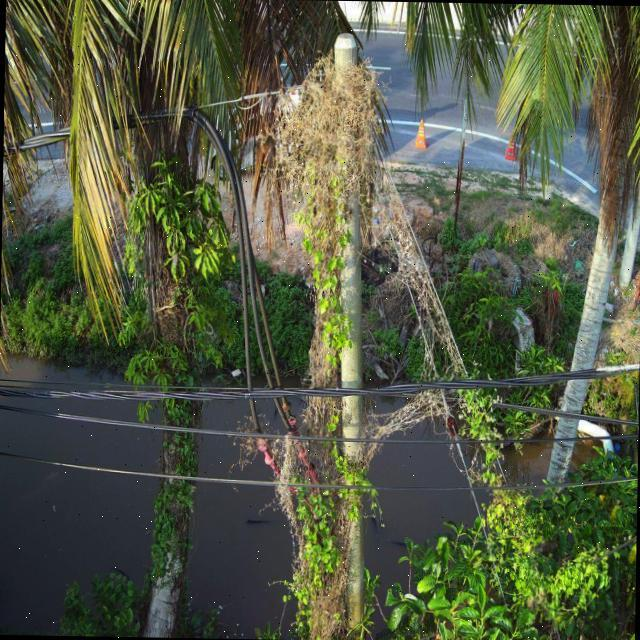critical vegetation: (258, 22, 532, 580)
